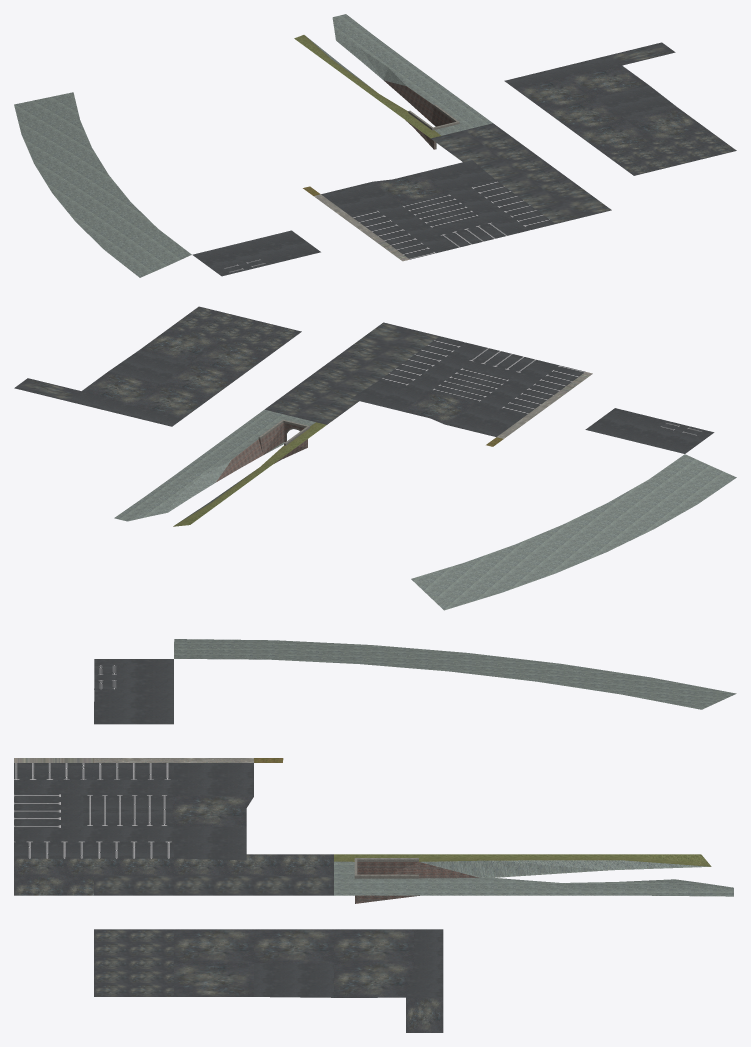
Rendered from vegasn_nland.obj.
The picture shows the model from 3 angles, top to bottom: view 1: azimuth 30°, elevation 25°; view 2: azimuth 150°, elevation 25°; view 3: azimuth 270°, elevation 25°; orthographic projection. The views are drawn at different scales.
Visible parts, largest first — view 1: vegasn_nland; view 2: vegasn_nland; view 3: vegasn_nland.
Boxes of the visible parts, x1,y1,x2,y2 form: vegasn_nland: [14, 14, 736, 277]; vegasn_nland: [14, 306, 736, 610]; vegasn_nland: [14, 639, 736, 1032].
Size of the model in its own units: 241 by 8.08 by 181.
8 materials, 8 textured.
